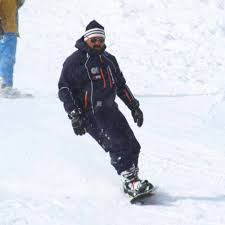snowboard: (129, 182, 157, 206)
